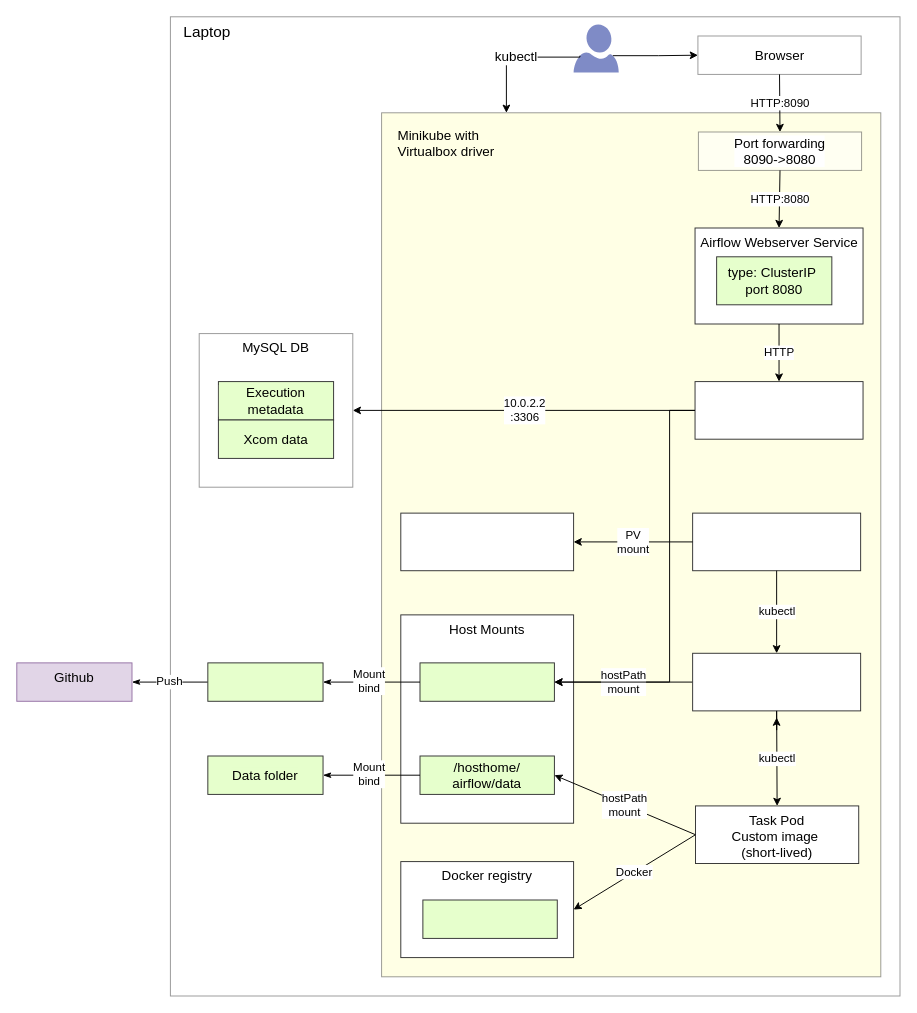
The diagram is 917 pixels wide and 1013 high, and some of its shapes have lost their labels. The shapes that lost their labels are listed below. From the top down, each one's centre as x and y in pixels, then its label:
At point (778, 410): "Airflow Webserver".
At point (487, 541): "Logs Permanent Volume".
At point (776, 541): "Airflow Scheduler".
At point (265, 681): "Dag code working directory".
At point (486, 681): "/hosthome/ airflow/dags".
At point (776, 681): "Airflow Worker KubernetesPodOperator (short-lived)".
At point (489, 918): "Custom images".
